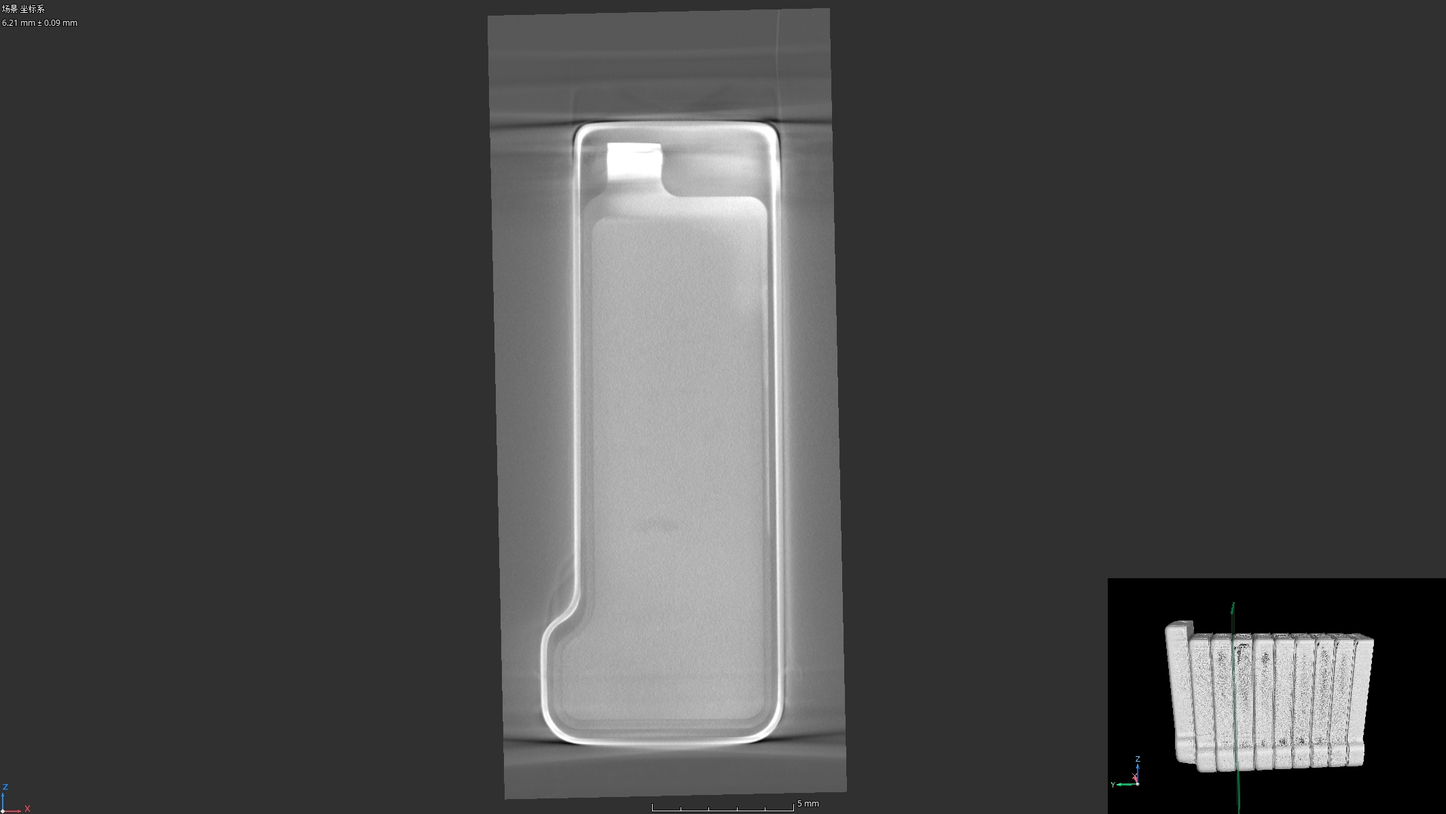dark: (634, 514, 680, 536)
